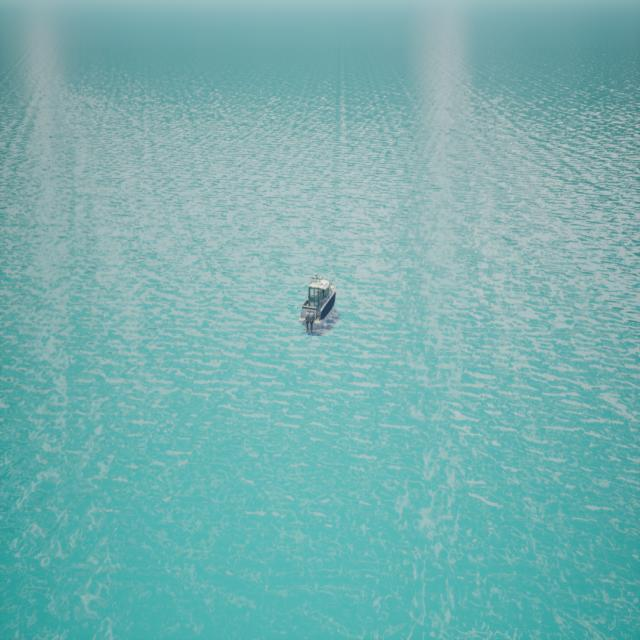ship: (300, 277, 336, 336)
